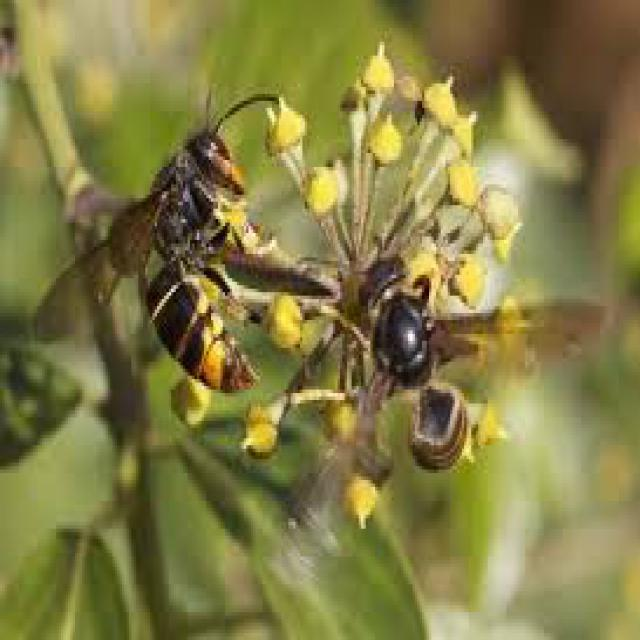Vespa Velutina: (42, 85, 282, 411)
